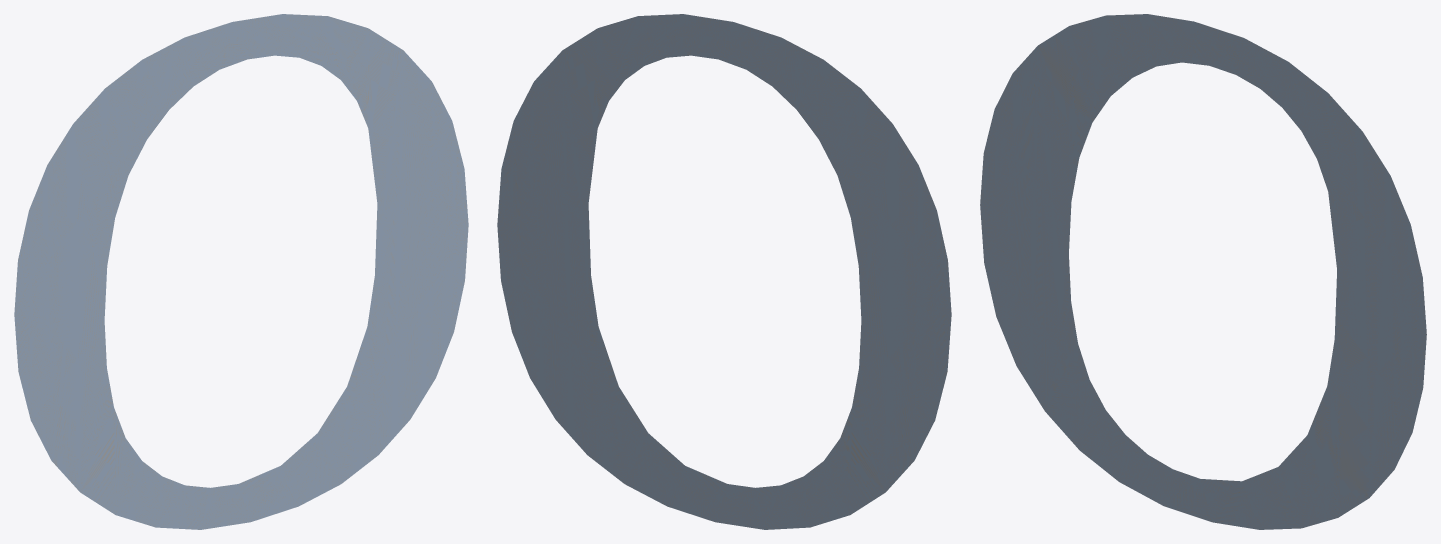
The model's file is original-168.obj.
3 renders of one model, left to right at view 1: azimuth 30°, elevation 25°; view 2: azimuth 150°, elevation 25°; view 3: azimuth 330°, elevation 25°, orthographic.
Parts seen in each view (by area): view 1: #ID902; view 2: #ID902; view 3: #ID902.
Part boxes in pixels (box(x1,y1,x2,y2)): #ID902: box(14, 14, 468, 529); #ID902: box(497, 14, 951, 529); #ID902: box(980, 14, 1426, 529).
Size of the model in its own units: 0.00876 by 0.0093 by 0.
